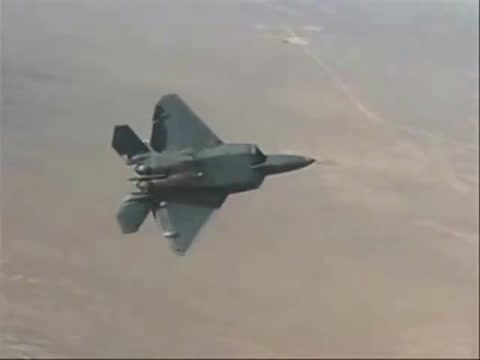aeroplane: (111, 90, 317, 260)
